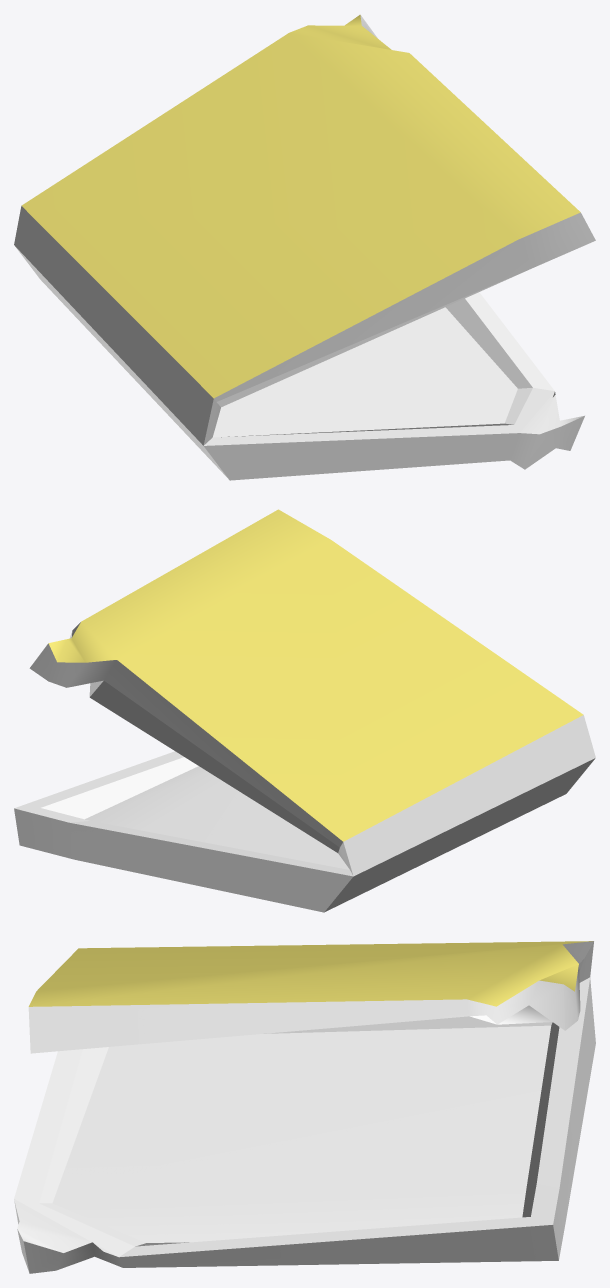
The model's file is Pizza_box.fbx.
The picture shows the model from 3 angles, top to bottom: view 1: azimuth 30°, elevation 25°; view 2: azimuth 150°, elevation 25°; view 3: azimuth 270°, elevation 25°; orthographic projection. The views are drawn at different scales.
Visible parts, largest first — view 1: Pizza_Box; view 2: Pizza_Box; view 3: Pizza_Box.
Part boxes in pixels (<box>): Pizza_Box: <box>14,14,595,480</box>; Pizza_Box: <box>14,509,595,912</box>; Pizza_Box: <box>14,941,595,1273</box>.
Size of the model in its own units: 1.84 by 1.15 by 1.96.
